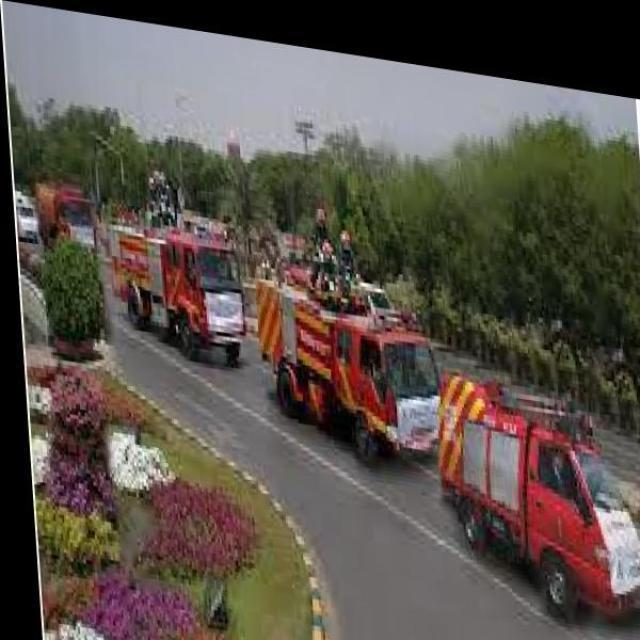emergency: (434, 369, 638, 623), (256, 242, 444, 468), (95, 202, 248, 354)
